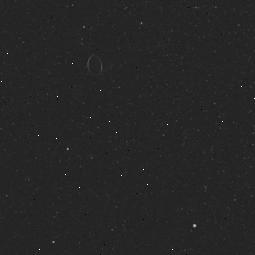debris: (80, 53, 114, 78)
